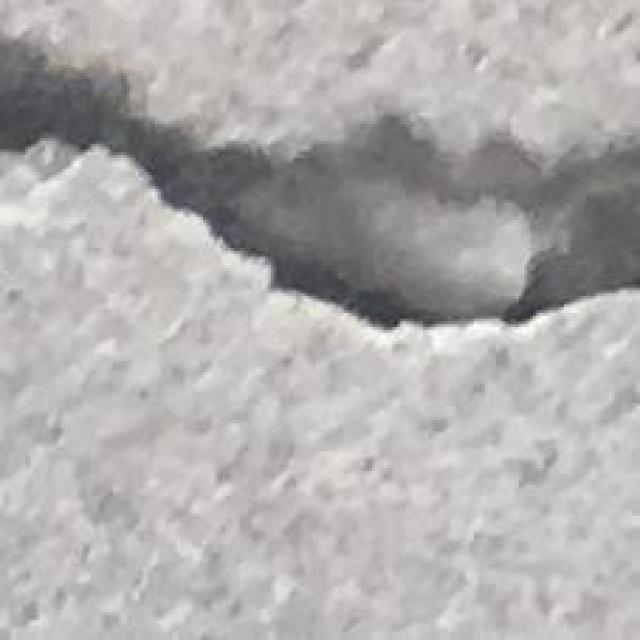Crack: (3, 17, 640, 361)
